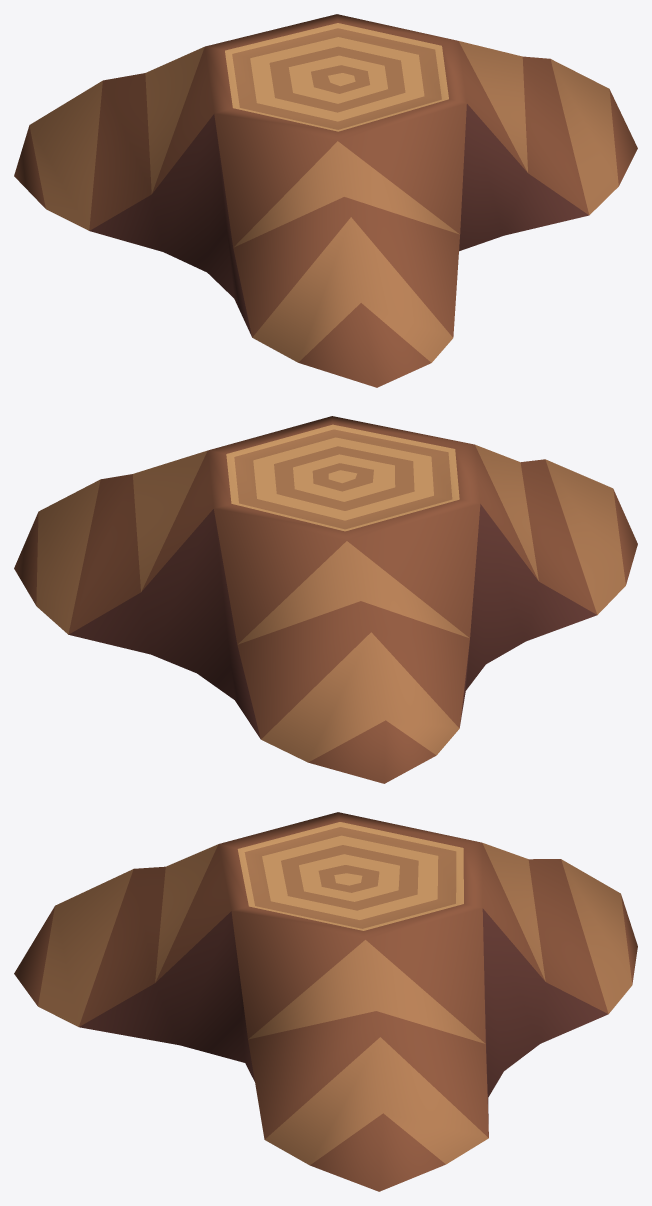
The model's file is mesh_TreeStump.fbx.
3 views of the same model, one above another, from view 1: azimuth 30°, elevation 25°; view 2: azimuth 150°, elevation 25°; view 3: azimuth 270°, elevation 25° (orthographic).
Parts seen in each view (by area): view 1: pasted__pCube1; view 2: pasted__pCube1; view 3: pasted__pCube1.
Part boxes in pixels (x1,y1,x2,y2): pasted__pCube1: (14, 14, 637, 387); pasted__pCube1: (14, 416, 637, 783); pasted__pCube1: (14, 812, 637, 1191).
Size of the model in its own units: 2.16 by 0.6425 by 2.27.
